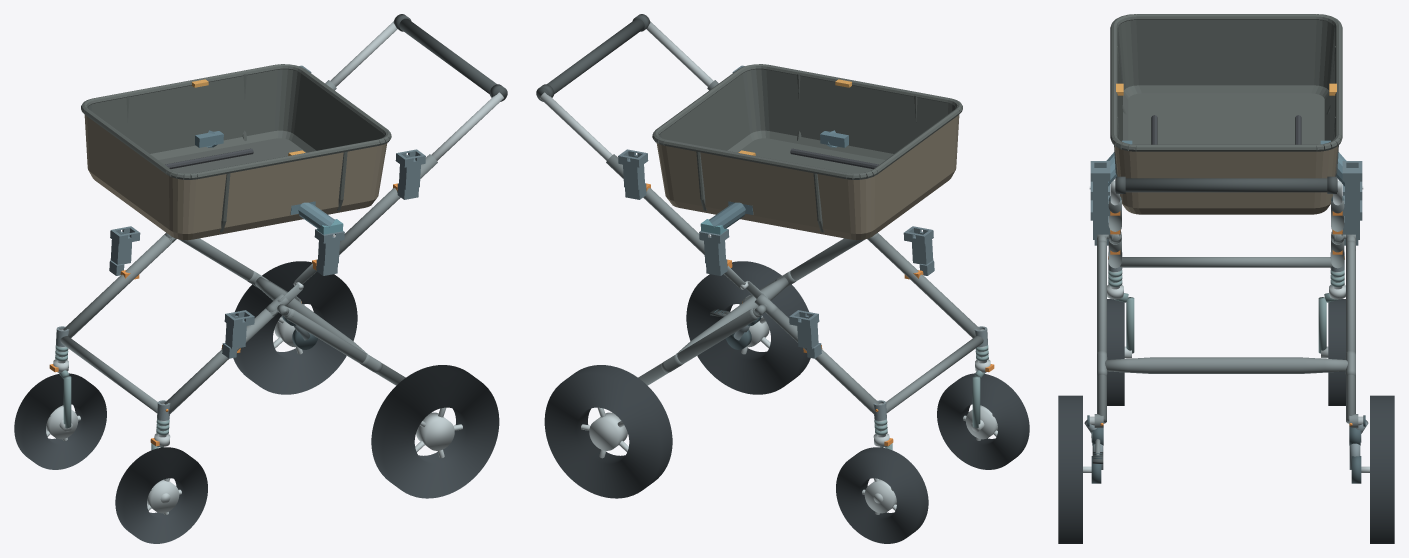
Rendered from S14_w650_state1_wheel_L.glb.
3 views of the same model, side by side, from view 1: azimuth 30°, elevation 25°; view 2: azimuth 150°, elevation 25°; view 3: azimuth 270°, elevation 25° (orthographic). The views are drawn at different scales.
Visible parts, largest first — view 1: S14_Cabin, RL_tire.008, RR_tire.008, FL_tire.008, FR_tire.008, main_lower_1.009, round_handle.008, V46_rear_leg_-1.009, main_lower_-1.009, S14_Cabin_Mount_M, front_fixed_round_tube.008, main_upper_-1.009 (+11 smaller); view 2: S14_Cabin, RR_tire.008, RL_tire.008, FR_tire.008, FL_tire.008, main_lower_-1.009, round_handle.008, V46_rear_leg_1.009, main_lower_1.009, S14_Cabin_Mount_M, front_fixed_round_tube.008, main_upper_1.009 (+11 smaller); view 3: S14_Cabin, V46_rearbar.009, RL_tire.008, RR_tire.008, round_handle.008, front_fixed_round_tube.008, FL_tire.008, FR_tire.008, V46_rear_leg_1.009, V46_rear_leg_-1.009, Universal_Cabin_Receiver_H_1, Universal_Cabin_Receiver_H_-1 (+5 smaller).
Part boxes in pixels (x1,y1,x2,y2): S14_Cabin: (81,64,391,240); RL_tire.008: (371,365,499,498); RR_tire.008: (233,261,357,394); FL_tire.008: (115,447,207,543); FR_tire.008: (14,373,106,469); main_lower_1.009: (63,235,174,337); round_handle.008: (399,18,506,100); V46_rear_leg_-1.009: (285,308,405,385); main_lower_-1.009: (164,308,277,414); S14_Cabin_Mount_M: (195,130,343,237); front_fixed_round_tube.008: (60,336,157,412); main_upper_-1.009: (317,154,437,259); S14_Cabin: (652,64,962,240); RR_tire.008: (544,365,672,498); RL_tire.008: (686,261,810,394); FR_tire.008: (836,447,928,543); FL_tire.008: (937,373,1029,469); main_lower_-1.009: (869,235,980,337); round_handle.008: (537,18,644,100); V46_rear_leg_1.009: (638,308,758,385); main_lower_1.009: (766,308,879,414); S14_Cabin_Mount_M: (700,130,848,237); front_fixed_round_tube.008: (886,336,983,412); main_upper_1.009: (606,154,726,259); S14_Cabin: (1110,14,1342,214); V46_rearbar.009: (1105,357,1347,373); RL_tire.008: (1058,395,1082,543); RR_tire.008: (1370,395,1394,543); round_handle.008: (1115,178,1337,192); front_fixed_round_tube.008: (1120,257,1332,267); FL_tire.008: (1107,299,1124,405); FR_tire.008: (1328,299,1345,405); V46_rear_leg_1.009: (1346,240,1355,423); V46_rear_leg_-1.009: (1097,240,1106,423); Universal_Cabin_Receiver_H_1: (1342,161,1362,215); Universal_Cabin_Receiver_H_-1: (1090,161,1110,215).
Size of the model in its own units: 1.2 by 1.09 by 0.8171.
